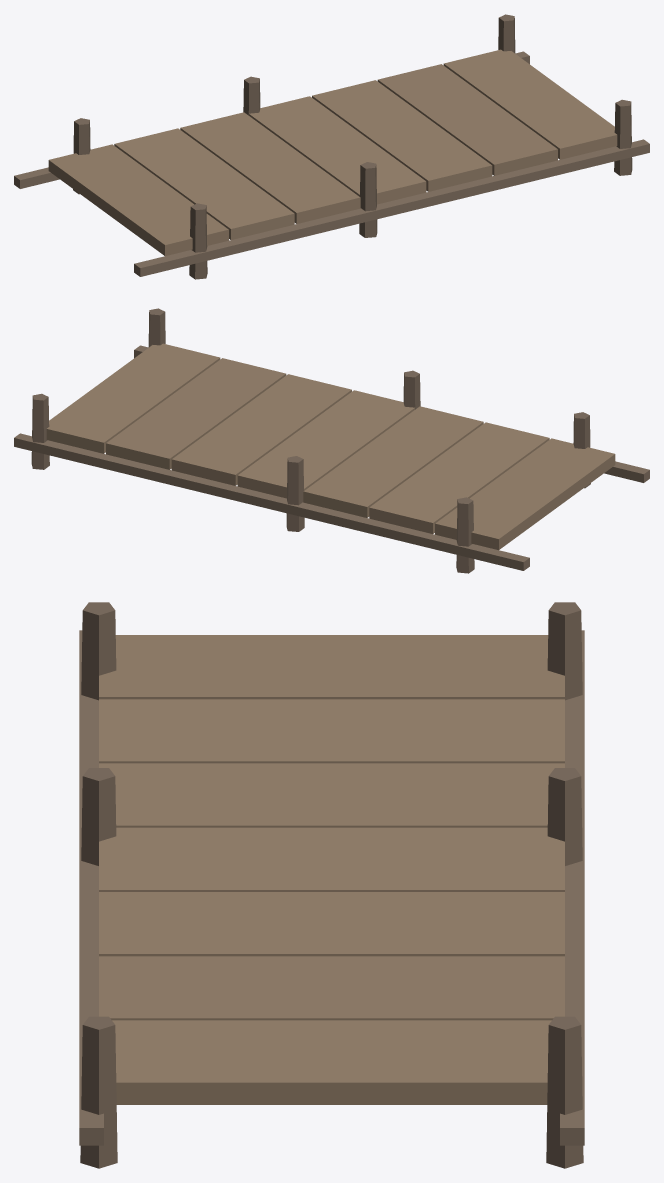
File: prop_pier.glb
3 renders of one model, top to bottom at view 1: azimuth 30°, elevation 25°; view 2: azimuth 150°, elevation 25°; view 3: azimuth 270°, elevation 25°, orthographic. The views are drawn at different scales.
Parts seen in each view (by area): view 1: body; view 2: body; view 3: body.
Boxes of the visible parts, x1=… form: body: x1=14, y1=14, x2=649, y2=279; body: x1=14, y1=308, x2=649, y2=573; body: x1=79, y1=602, x2=584, y2=1168.
Size of the model in its own units: 4.8 by 0.62 by 2.06.
